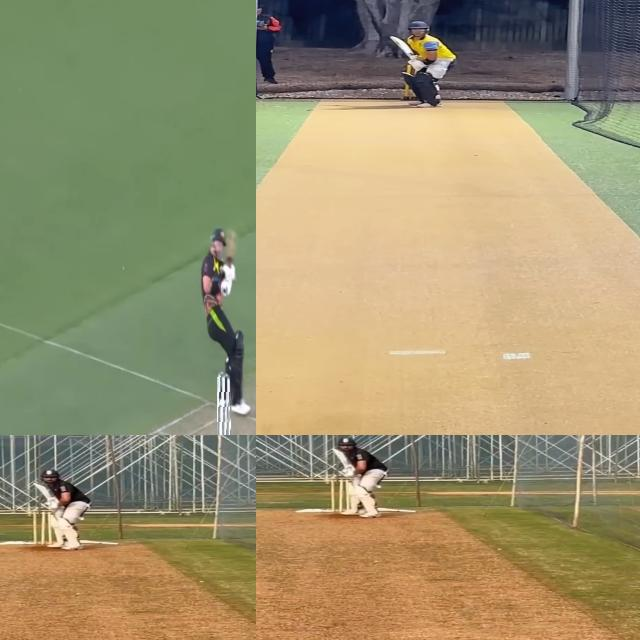Stumps: (217, 369, 233, 435), (30, 509, 54, 546), (330, 477, 350, 513)
